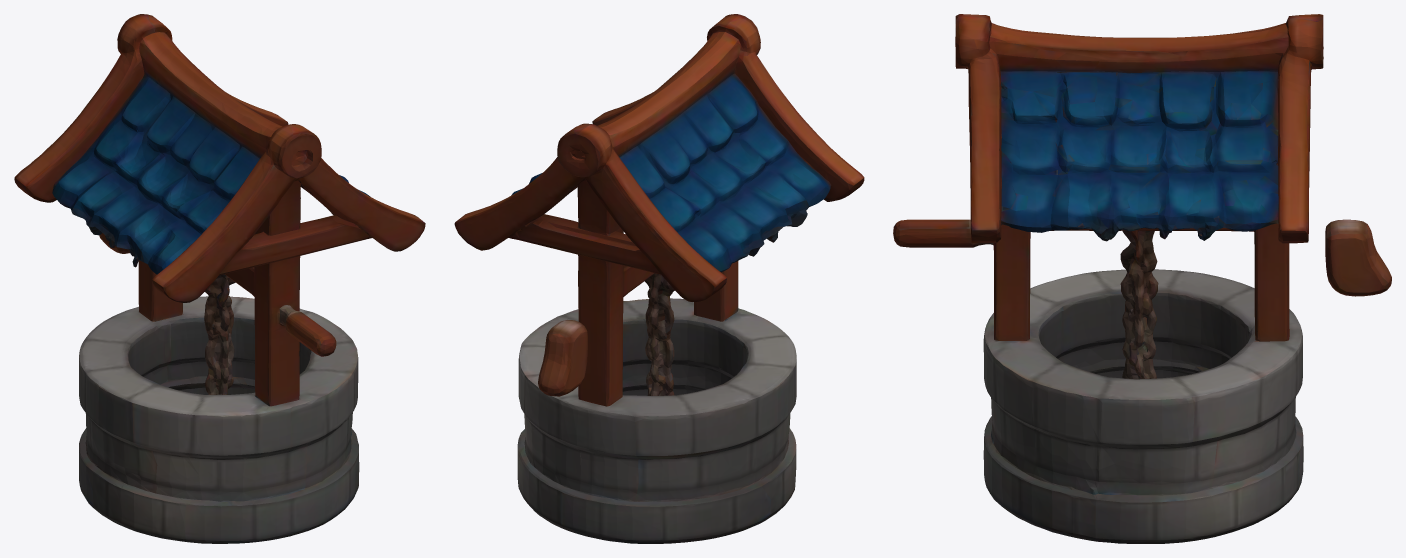
File: well.glb
3 views of the same model, side by side, from view 1: azimuth 30°, elevation 25°; view 2: azimuth 150°, elevation 25°; view 3: azimuth 270°, elevation 25° (orthographic). The views are drawn at different scales.
Visible parts, largest first — view 1: world; view 2: world; view 3: world.
Part boxes in pixels (x1,y1,x2,y2): world: (14,14,425,543); world: (454,14,864,543); world: (893,14,1391,543).
Size of the model in its own units: 0.6665 by 1 by 0.9771.
Materials: 1 (1 with a texture image).
